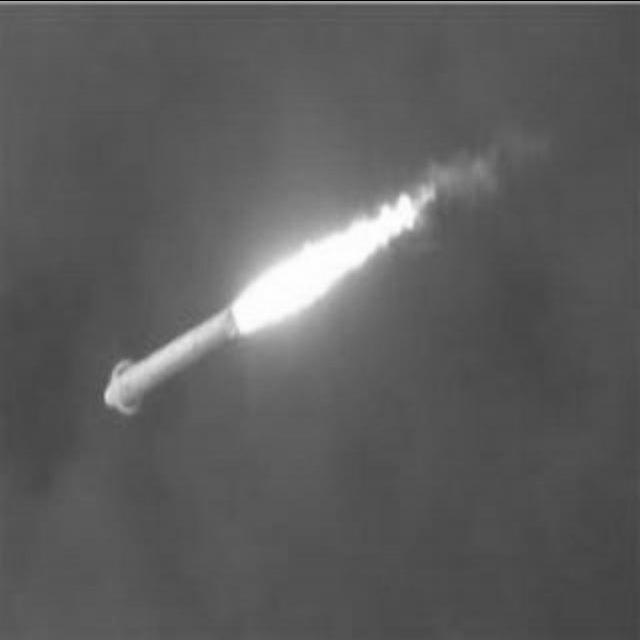Missile: (100, 284, 258, 418)
